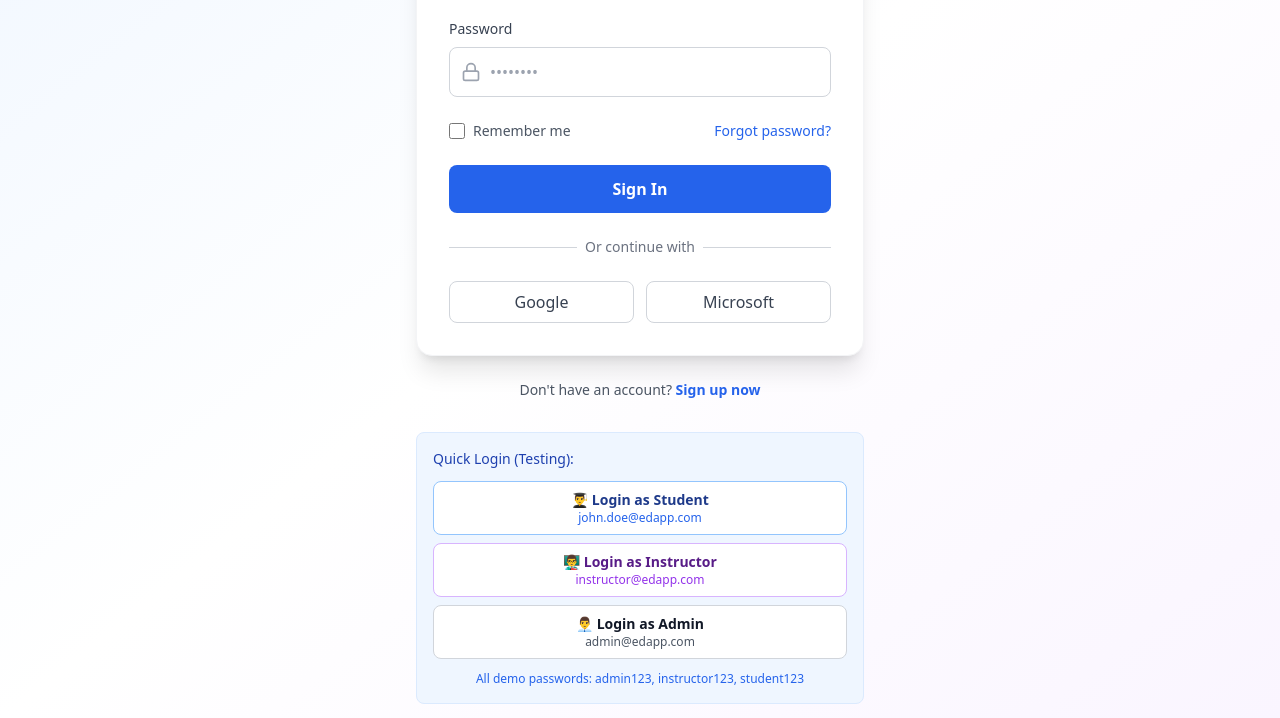
Test: User Switcher › opens user switcher panel when clicked
(page scrolled)
Click the button "👨‍🎓 Login as Student john.doe@edapp.com" at coordinates (640, 508), box [433,481,847,535]
(page scrolled)
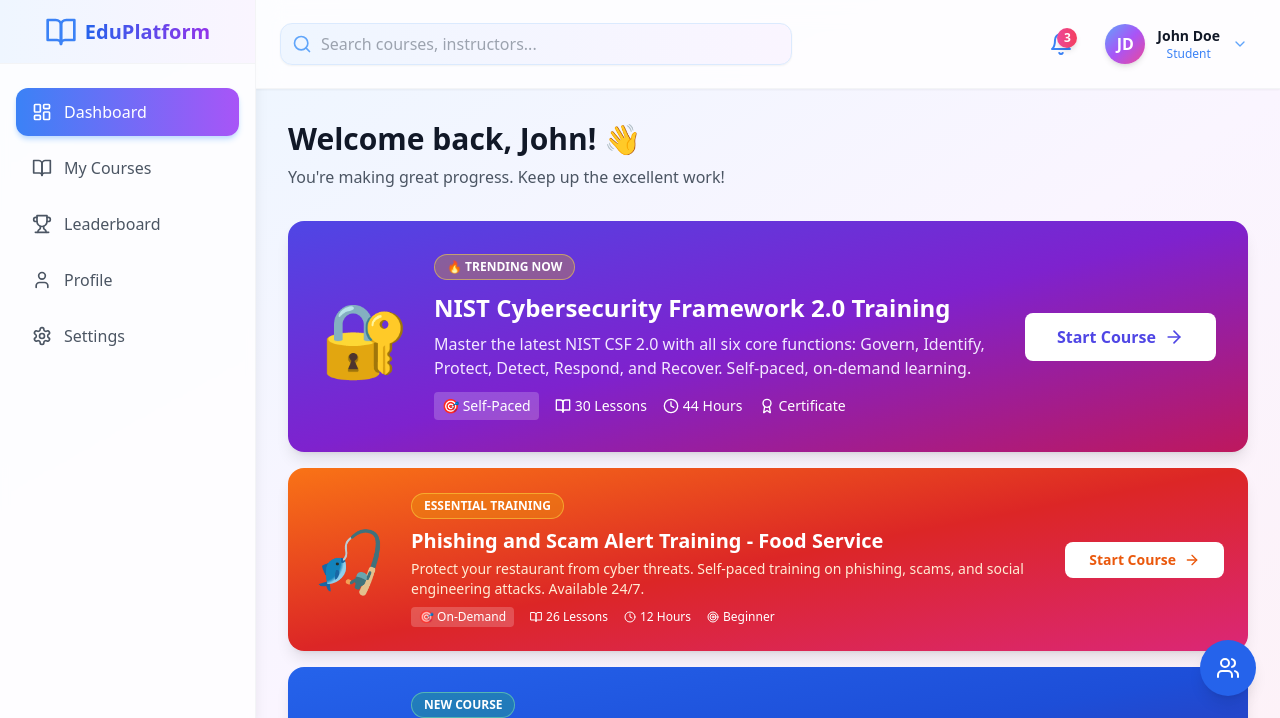
Click the button named "Switch User (Demo)" at coordinates (1228, 668), box [1200,640,1256,696]
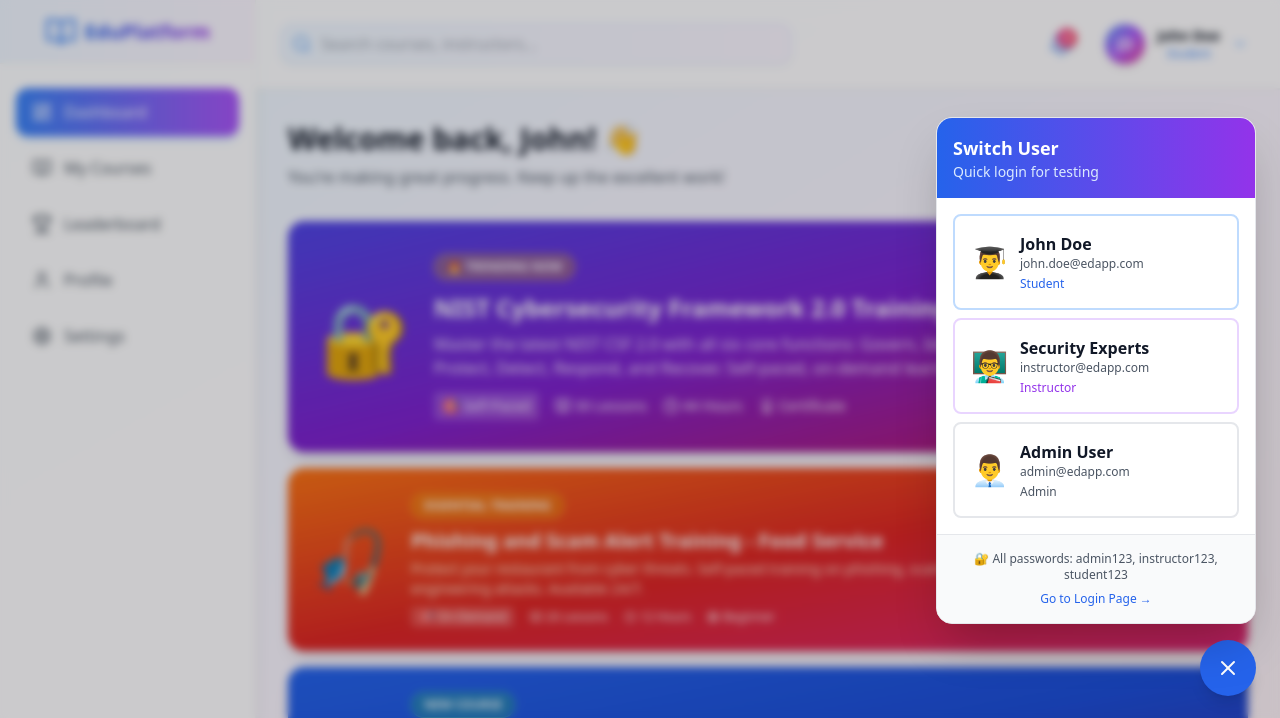
Now the heading "Switch User" is shown, box [953,136,1059,160]
Now the text "Quick login for testing" is shown, box [953,162,1099,181]
